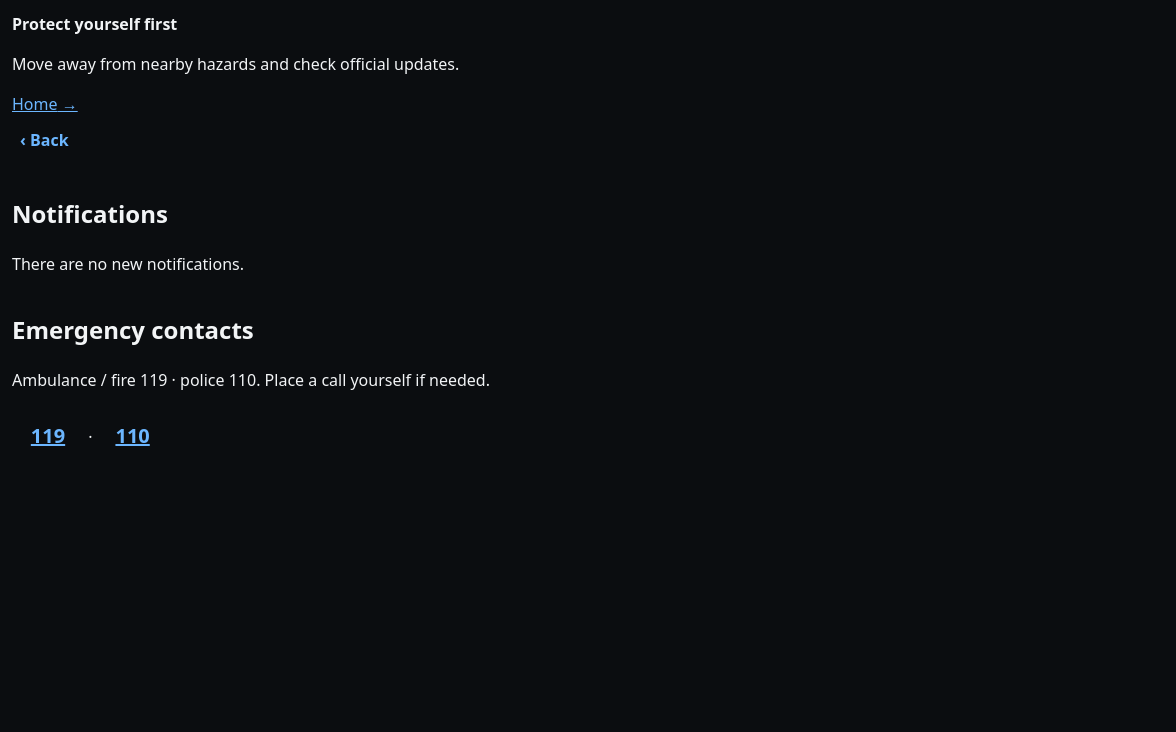
mobile More and Plan navigation › opens Notifications by default on the notifications view and hides the list
Expected: the element with class "live-notifications" is shown, x1=12 y1=197 x2=244 y2=275
Click the button with class "ui-btn-secondary" at (44, 140), box x1=12 y1=116 x2=77 y2=164
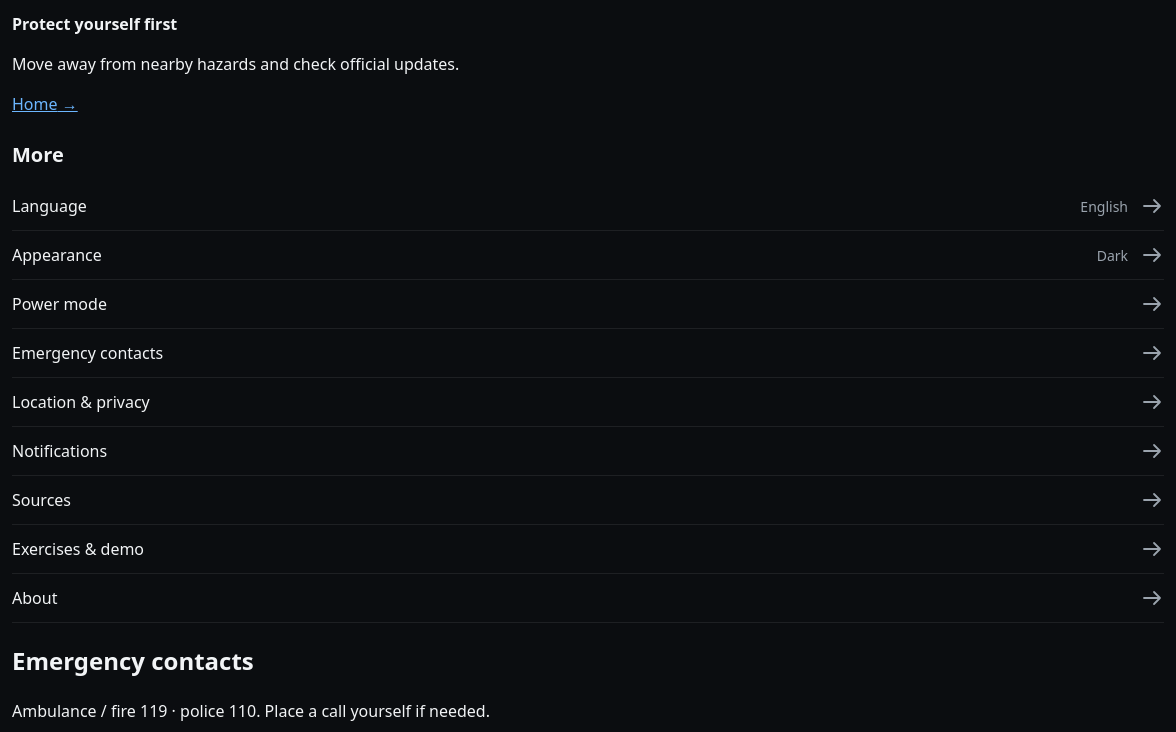
Now the number of buttons with class "ui-row" is 9
